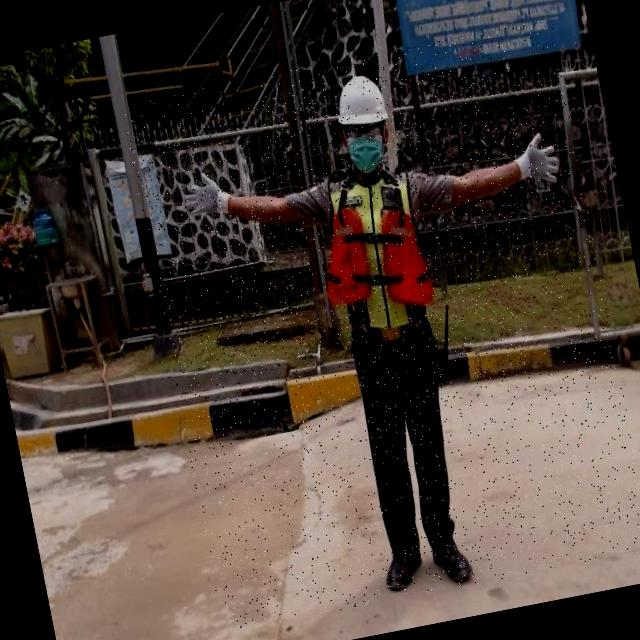boots: (424, 529, 477, 590), (378, 546, 428, 596)
gloves: (502, 124, 578, 208), (172, 166, 239, 238)
helmet: (330, 72, 390, 138)
vest: (306, 163, 441, 343)
